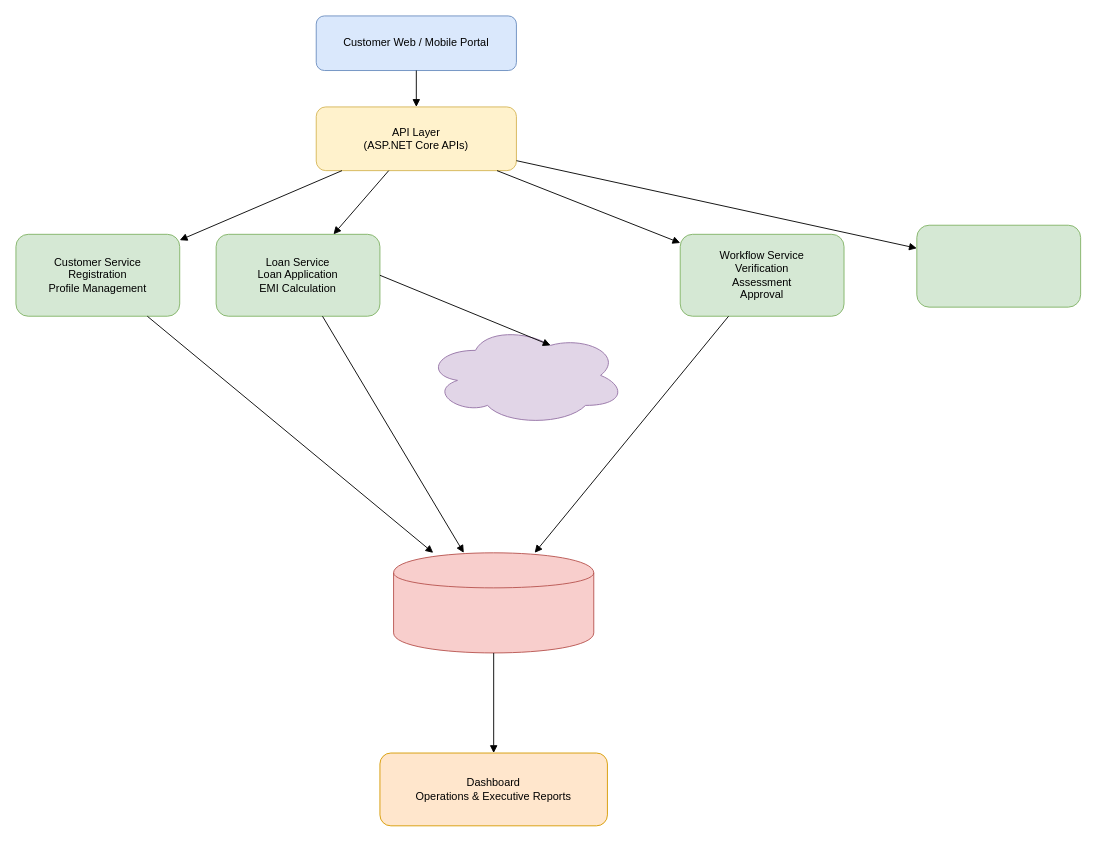
Some shapes in this 1097 by 842 pixel diagram are drawn without their labels. Each missing label, with the centre of its shape:
Azure Blob Storage Loan Documents KYC Documents: (x=525, y=374)
Azure SQL Database Customers Loan Applications Loans Accounts: (x=493, y=602)
Notification Service Email / SMS: (x=998, y=265)
